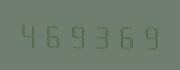four: (17, 18, 40, 49)
nine: (138, 20, 161, 51), (66, 19, 89, 49)
six: (41, 19, 64, 49), (114, 20, 137, 50)
three: (90, 20, 113, 50)
